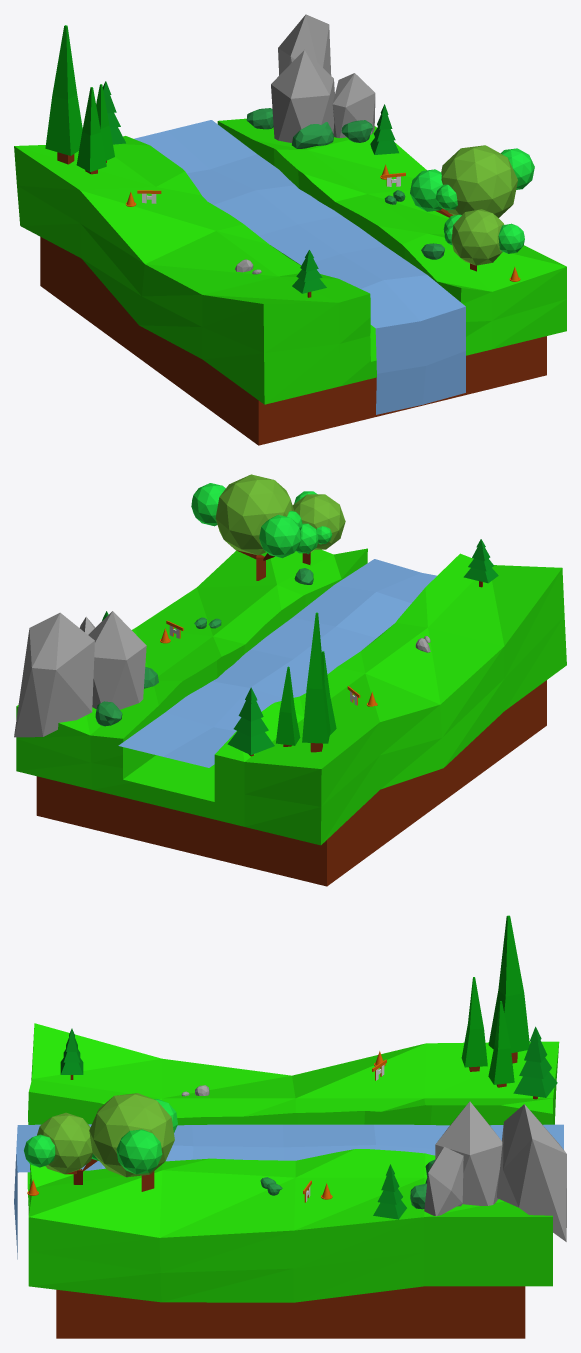
The model's file is Uni_island.glb.
The picture shows the model from 3 angles, top to bottom: view 1: azimuth 30°, elevation 25°; view 2: azimuth 150°, elevation 25°; view 3: azimuth 270°, elevation 25°; orthographic projection. The views are drawn at different scales.
Visible parts, largest first — view 1: Ground, Plane, Pedestal, Icosphere.003, Icosphere.002, Icosphere.004, Cube, Icosphere, Icosphere.001, Cube.004, Icosphere.007, PineTree.002 (+4 smaller); view 2: Ground, Pedestal, Plane, Icosphere, Icosphere.003, Icosphere.002, Icosphere.004, Cube, Cube.005, Cube.003, Cube.001, Icosphere.008; view 3: Ground, Pedestal, Plane, Icosphere, Icosphere.003, Icosphere.002, Icosphere.004, Cube, Icosphere.001, Cube.005, Cube.004, Cube.003 (+2 smaller).
Part boxes in pixels (x1,y1,x2,y2): Ground: (14,118,566,404); Plane: (134,120,465,414); Pedestal: (40,237,546,445); Icosphere.003: (410,145,534,217); Icosphere.002: (271,50,334,142); Icosphere.004: (443,209,524,271); Cube: (45,25,82,164); Icosphere: (278,14,331,75); Icosphere.001: (332,73,375,138); Cube.004: (76,87,106,174); Icosphere.007: (292,122,333,148); PineTree.002: (370,104,398,154); Ground: (16,548,566,845); Pedestal: (36,680,546,886); Plane: (118,559,436,767); Icosphere: (14,612,94,737); Icosphere.003: (191,474,302,580); Icosphere.002: (88,611,146,709); Icosphere.004: (292,491,345,564); Cube: (302,612,330,752); Cube.005: (227,687,274,756); Cube.003: (276,666,300,746); Cube.001: (463,539,498,587); Icosphere.008: (95,701,122,726); Ground: (27,1023,559,1302); Pedestal: (56,1286,525,1338); Plane: (14,1124,563,1259); Icosphere: (497,1104,566,1241); Icosphere.003: (89,1093,177,1191); Icosphere.002: (435,1101,502,1205); Icosphere.004: (24,1112,99,1184); Cube: (488,915,529,1063); Icosphere.001: (424,1147,463,1216); Cube.005: (513,1026,557,1099); Cube.004: (461,977,487,1071); Cube.003: (488,1001,514,1087).
Bounding box in the file's own units: 5.01 × 4.06 × 6.93.
